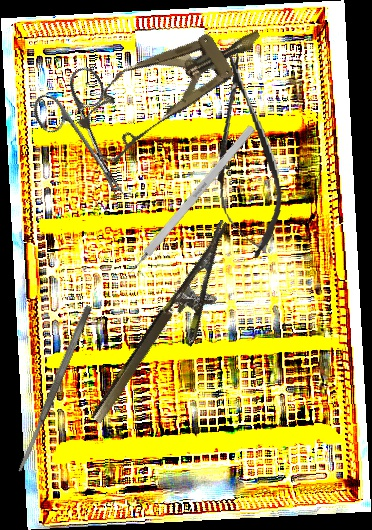Hook Surgical: (117, 124, 257, 287)
Iris Scissors: (25, 62, 155, 215)
Micro Scissor: (201, 48, 290, 262)
Needle Holder: (88, 219, 260, 442)
Spatula Surgical: (14, 304, 94, 474)
Speculum: (66, 0, 279, 171)
